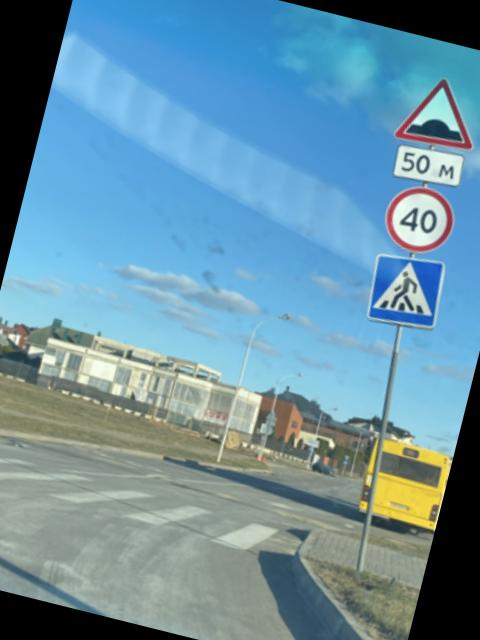crosswalk-sign: (361, 245, 452, 336)
